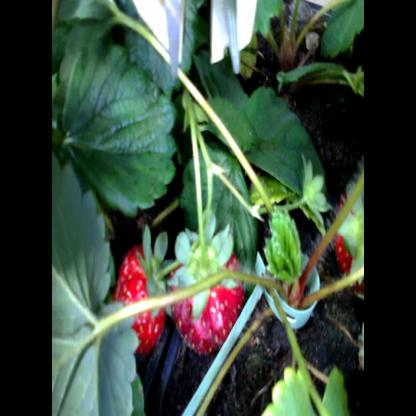ripe: (87, 217, 167, 359), (170, 224, 241, 356), (332, 183, 364, 297)
